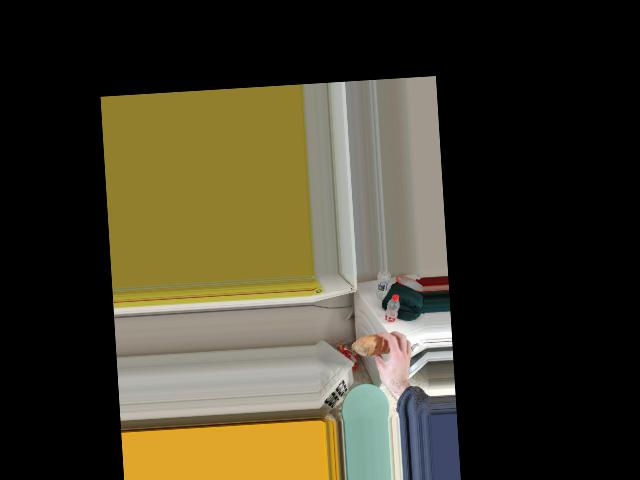sweet_potato: (359, 333, 392, 356)
